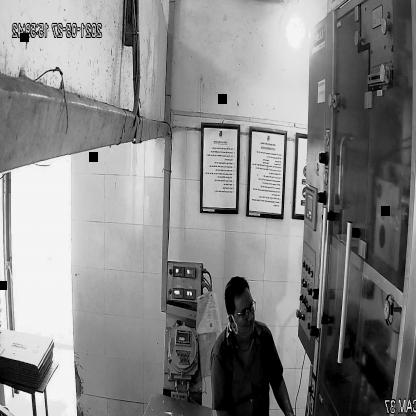goggles: (226, 296, 258, 324)
